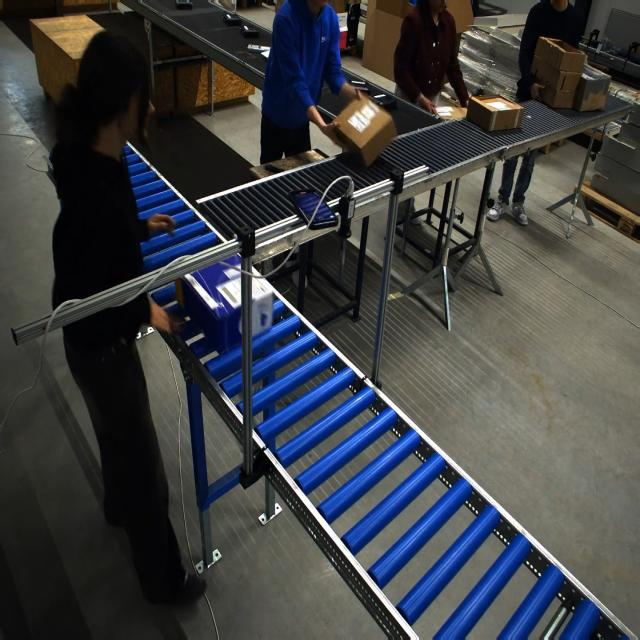box: (173, 239, 281, 337), (332, 91, 390, 167), (466, 94, 525, 133), (430, 103, 468, 122)
product: (370, 94, 396, 110), (222, 13, 241, 26), (241, 25, 259, 37), (246, 44, 268, 52), (175, 0, 193, 9)
